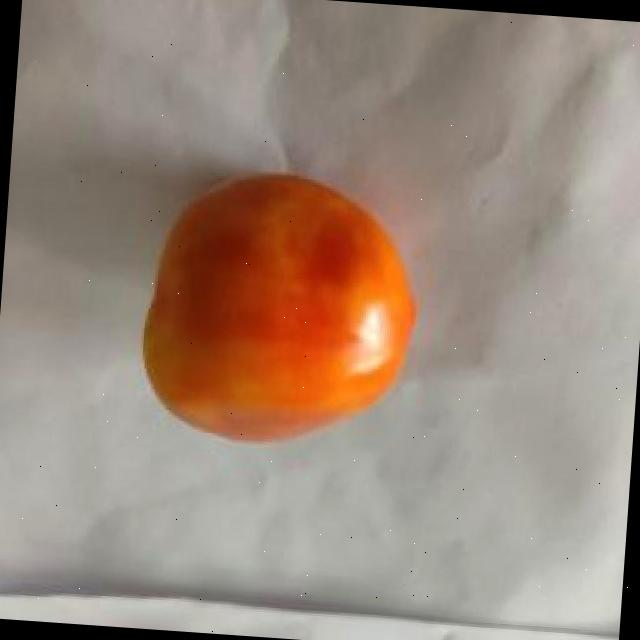tomato: (136, 167, 420, 457)
